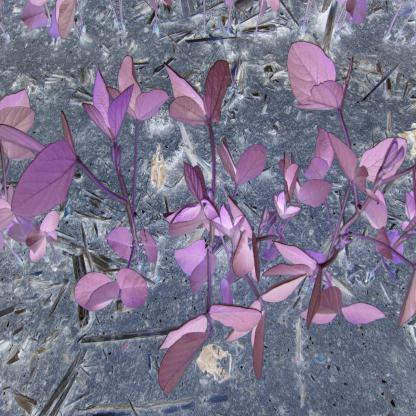Soyabean leaf: (9, 139, 78, 219), (285, 40, 336, 110), (158, 329, 207, 396), (204, 58, 232, 122), (106, 82, 135, 140), (235, 142, 266, 190), (115, 268, 148, 313), (136, 88, 168, 127), (168, 96, 207, 126), (184, 162, 204, 204)
